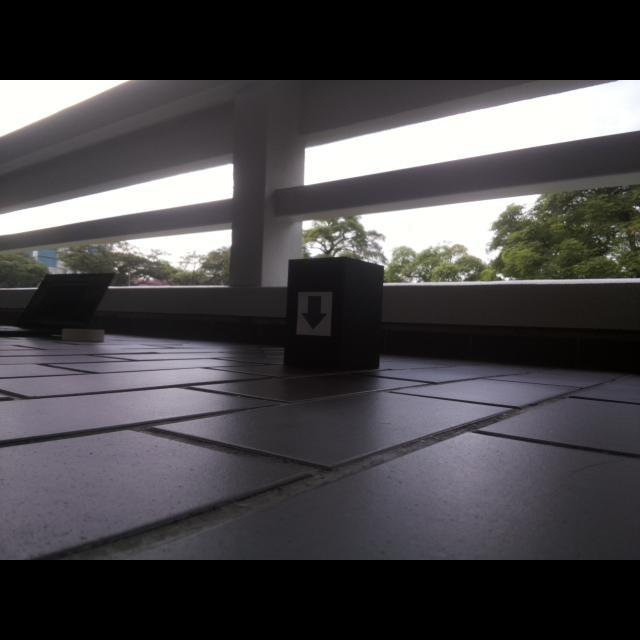DOWN: (299, 294, 328, 331)
